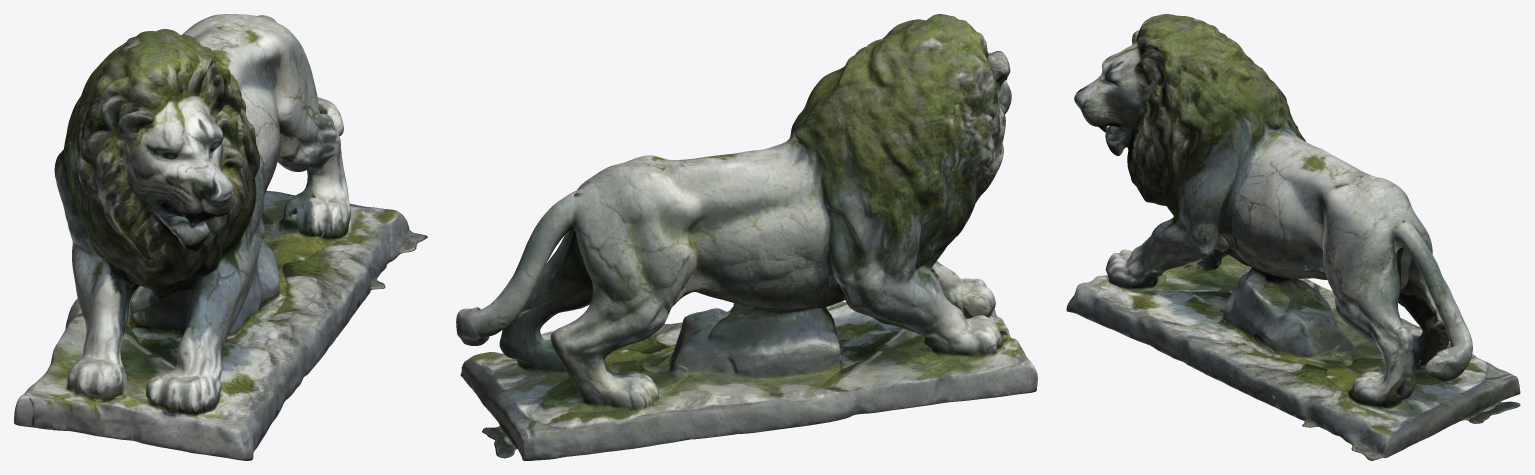
Rendered from bq_lion.glb.
3 views of the same model, side by side, from view 1: azimuth 30°, elevation 25°; view 2: azimuth 150°, elevation 25°; view 3: azimuth 270°, elevation 25° (orthographic). The views are drawn at different scales.
Bounding box in the file's own units: 2.01 × 1.41 × 1.97.
Materials: 1 (1 with a texture image).
